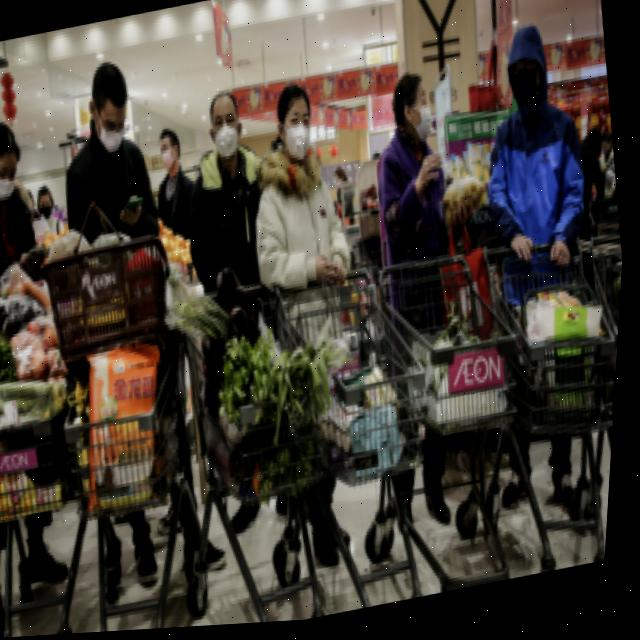Mask: (506, 66, 549, 114), (90, 107, 130, 156), (277, 120, 318, 166), (207, 121, 248, 166), (406, 105, 439, 150), (0, 158, 24, 206), (160, 152, 180, 173)
